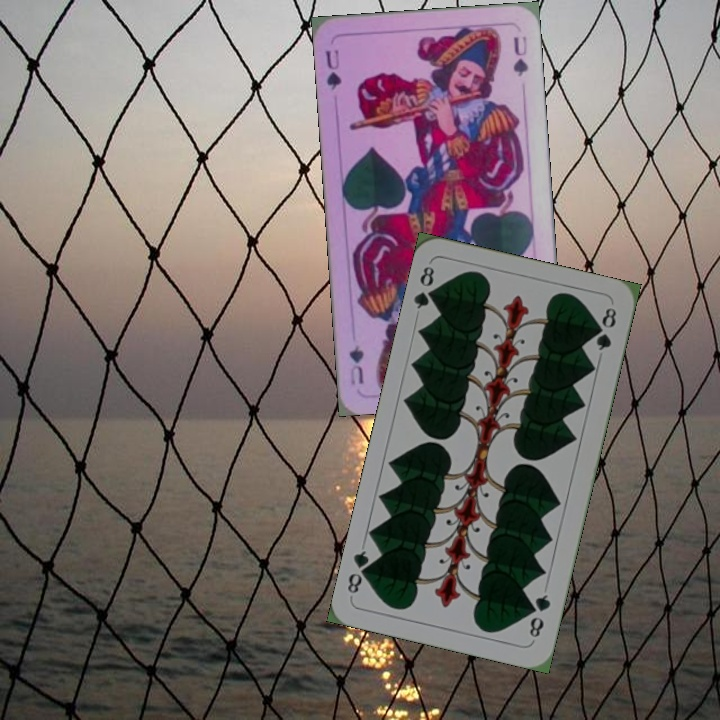G8: (409, 262, 441, 312), (525, 590, 553, 641)
GU: (321, 45, 344, 93)
